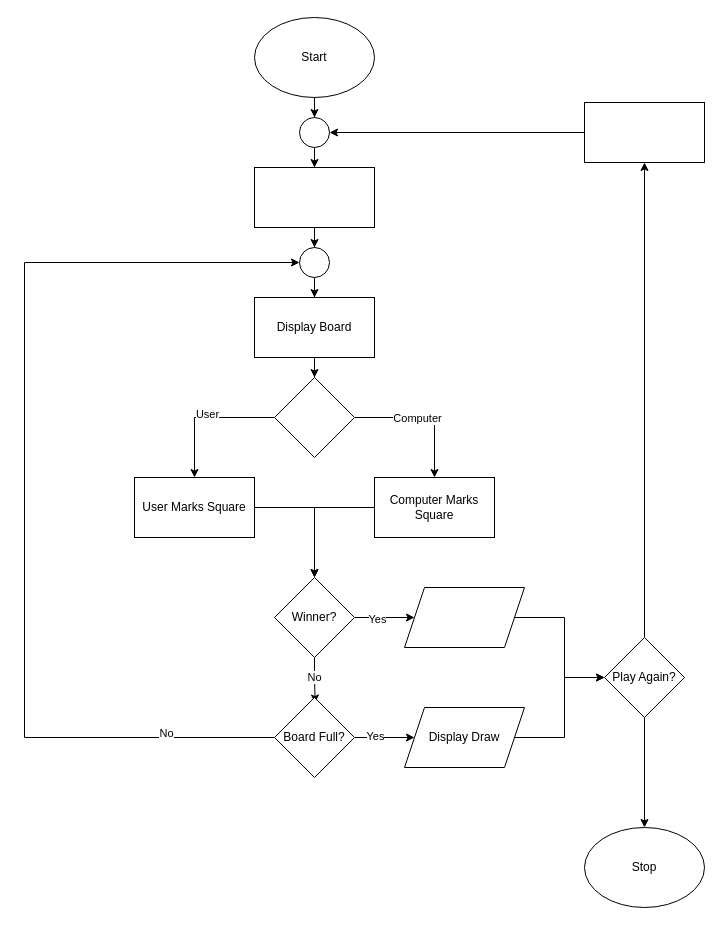
The diagram is 722 pixels wide and 925 high, and some of its shapes have lost their labels. The centre of each missing label's shape, as x and y in pixels:
Determine First Player: [314,197]
Display Winner: [464,617]
Reset Board: [644,132]
Turn Player?: [314,417]
